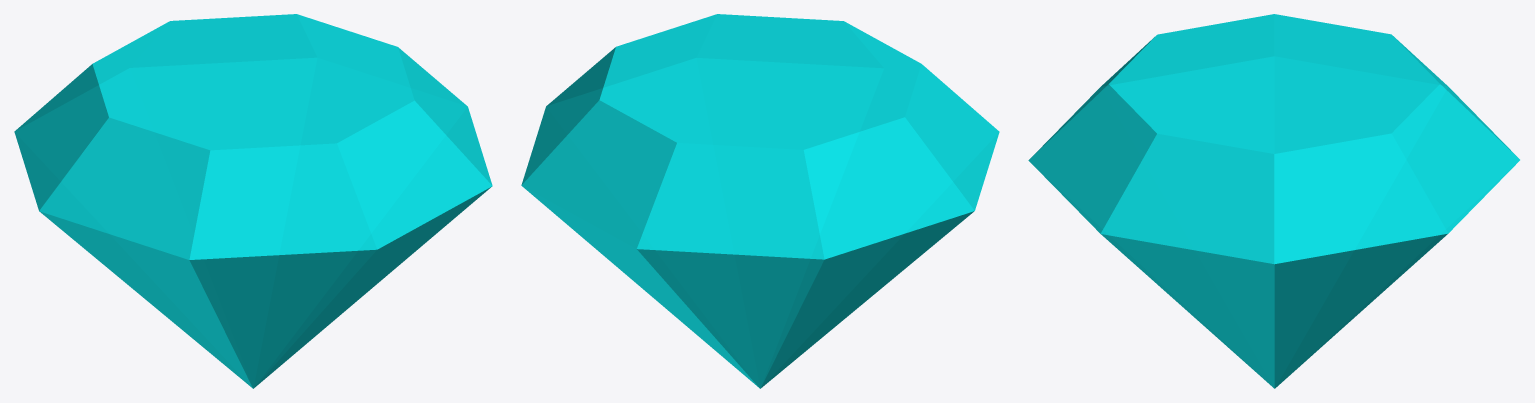
The model's file is DIAMOND.fbx.
3 views of the same model, side by side, from view 1: azimuth 30°, elevation 25°; view 2: azimuth 150°, elevation 25°; view 3: azimuth 270°, elevation 25° (orthographic).
Parts seen in each view (by area): view 1: pCone1; view 2: pCone1; view 3: pCone1.
Boxes of the visible parts, bbox=[...] form: pCone1: bbox=[14, 14, 492, 388]; pCone1: bbox=[521, 14, 999, 388]; pCone1: bbox=[1028, 14, 1519, 388].
Bounding box in the file's own units: 0.273 × 0.1868 × 0.273.
